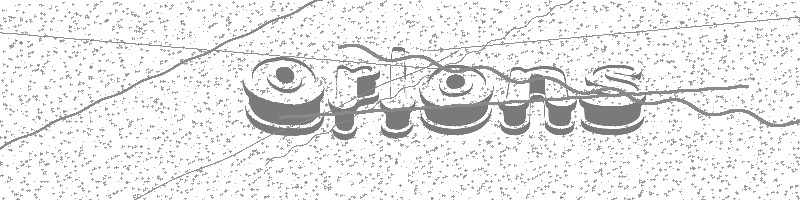l: (378, 42, 417, 141)
n: (496, 63, 578, 138)
o: (240, 53, 327, 137), (418, 63, 495, 138)
r: (324, 61, 382, 141)
s: (577, 62, 646, 138)
